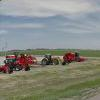Tractor: (9, 41, 81, 79)
